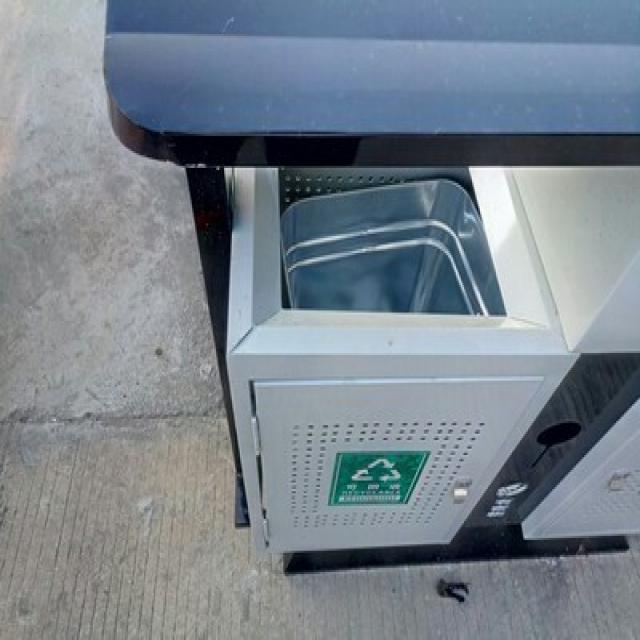ash bin: (100, 6, 638, 572)
